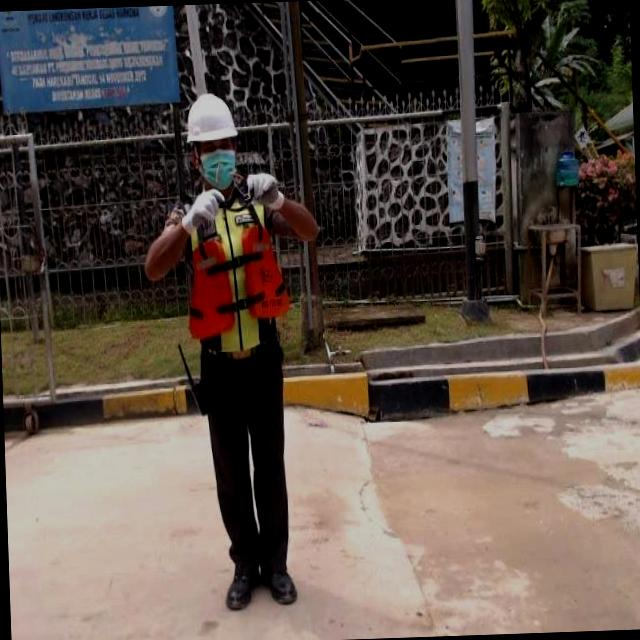vest: (179, 178, 286, 364)
